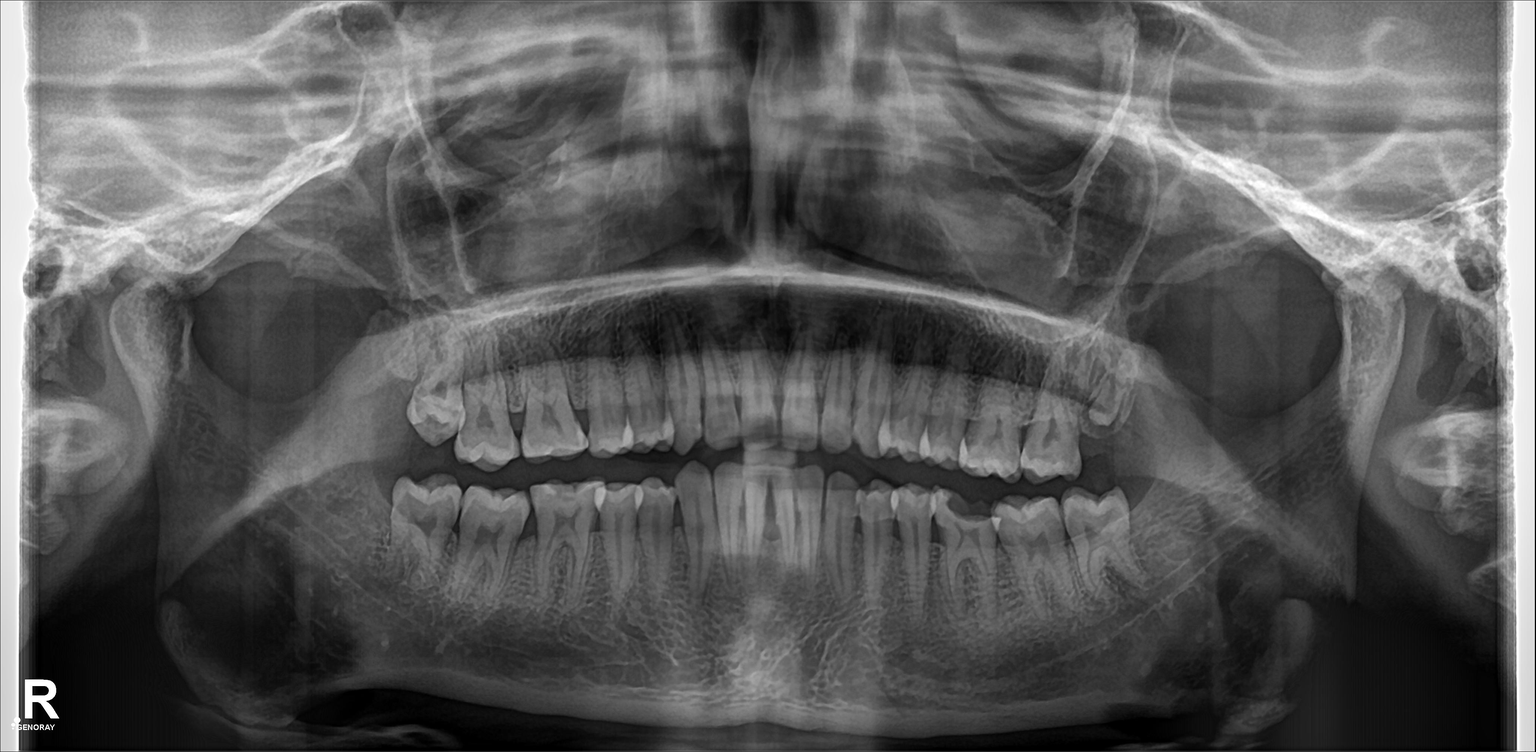Dental Caries: (940, 488, 1004, 523)
Missing Tooth: (1138, 477, 1181, 565)
Retained Root: (1088, 359, 1150, 468)
